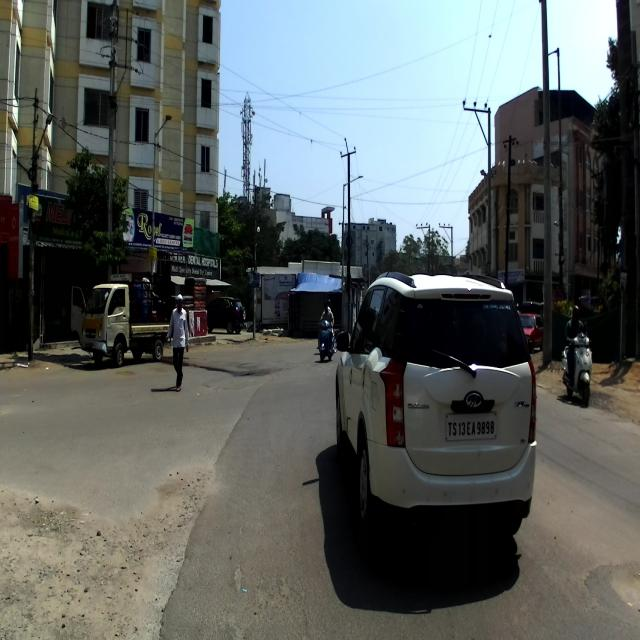high: (167, 284, 190, 394)
